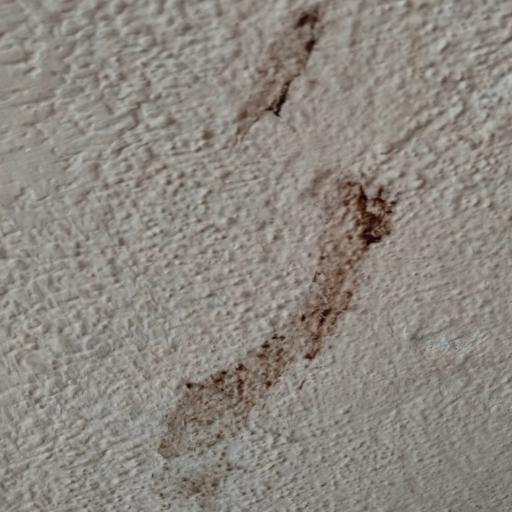stain: (139, 162, 382, 512), (208, 1, 380, 161)
